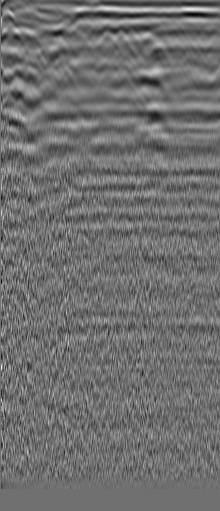오수: (17, 23, 37, 43)
우수: (167, 21, 187, 41)
